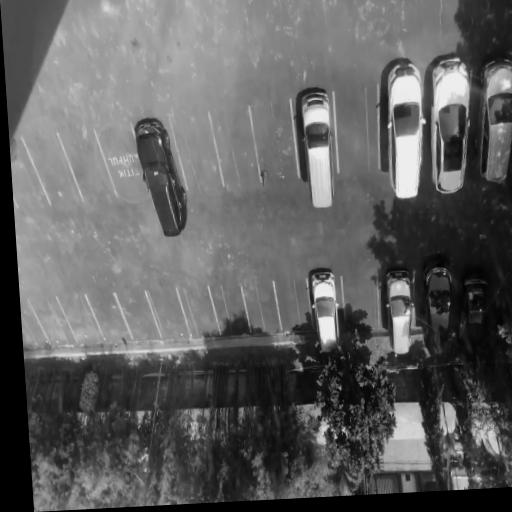Car: (132, 118, 191, 240), (429, 57, 470, 196), (386, 64, 422, 200), (298, 87, 336, 212), (476, 56, 512, 186), (452, 273, 492, 358), (308, 269, 343, 359), (422, 262, 453, 358), (383, 269, 413, 354)
Space Available: (57, 128, 117, 202), (248, 97, 299, 184), (208, 104, 262, 186), (22, 134, 83, 205), (169, 111, 223, 189), (95, 124, 149, 199), (333, 85, 379, 172), (9, 139, 50, 209), (27, 297, 77, 344), (114, 290, 161, 340), (58, 293, 103, 342), (179, 285, 221, 337), (86, 293, 132, 340), (146, 288, 190, 337), (243, 280, 283, 332), (273, 278, 313, 330), (342, 278, 380, 332), (208, 287, 250, 334), (21, 299, 49, 345)
